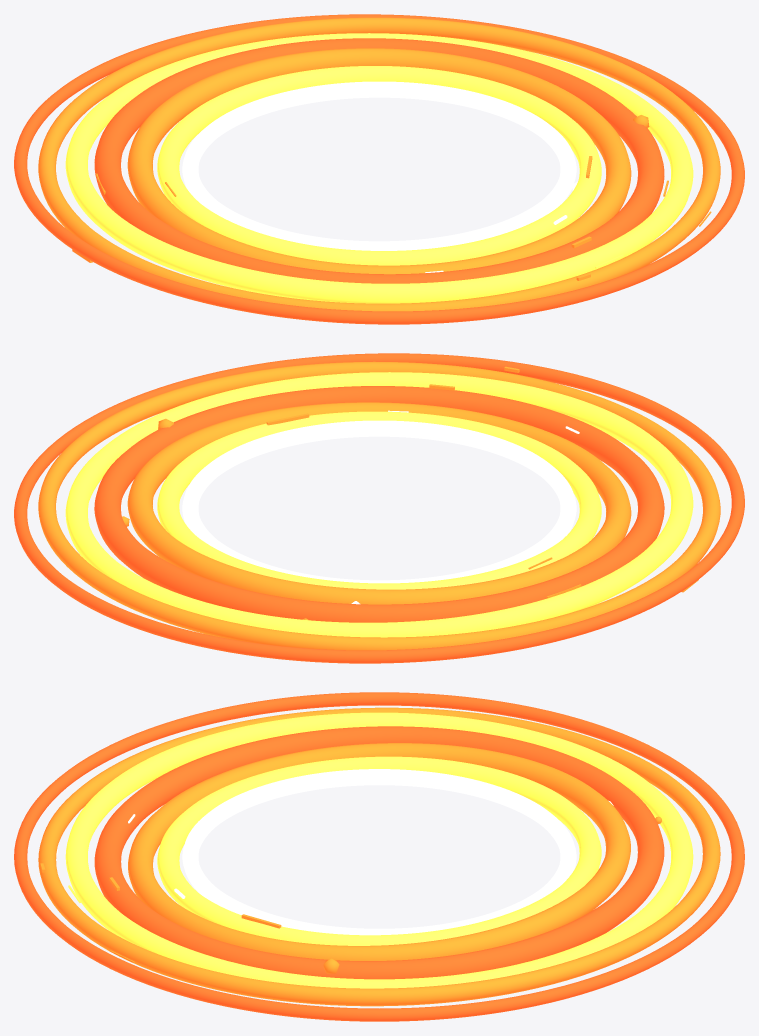
File: accretion_disk.glb
3 renders of one model, top to bottom at view 1: azimuth 30°, elevation 25°; view 2: azimuth 150°, elevation 25°; view 3: azimuth 270°, elevation 25°, orthographic.
Parts seen in each view (by area): view 1: accretion_disk; view 2: accretion_disk; view 3: accretion_disk.
Part boxes in pixels (x1,y1,x2,y2): accretion_disk: (14,14,744,324); accretion_disk: (14,353,744,663); accretion_disk: (14,692,744,1021).
Bounding box in the file's own units: 4.95 × 0.2994 × 4.95.
